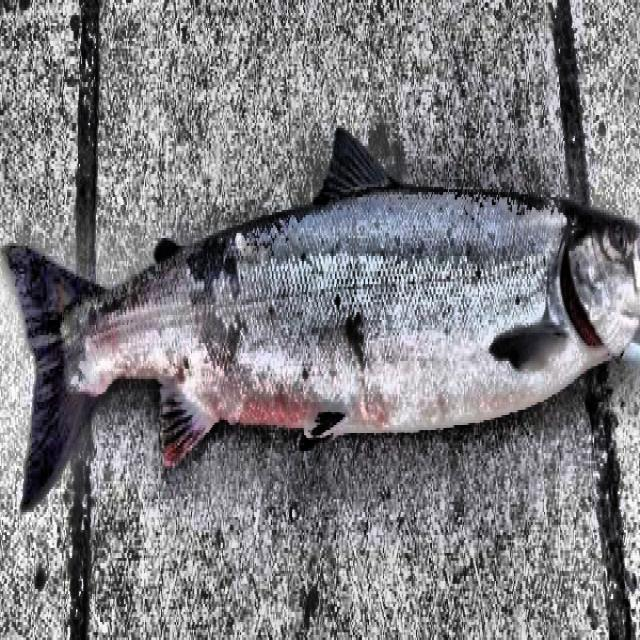mild_red: (66, 189, 598, 430)
wound: (561, 259, 602, 343)
